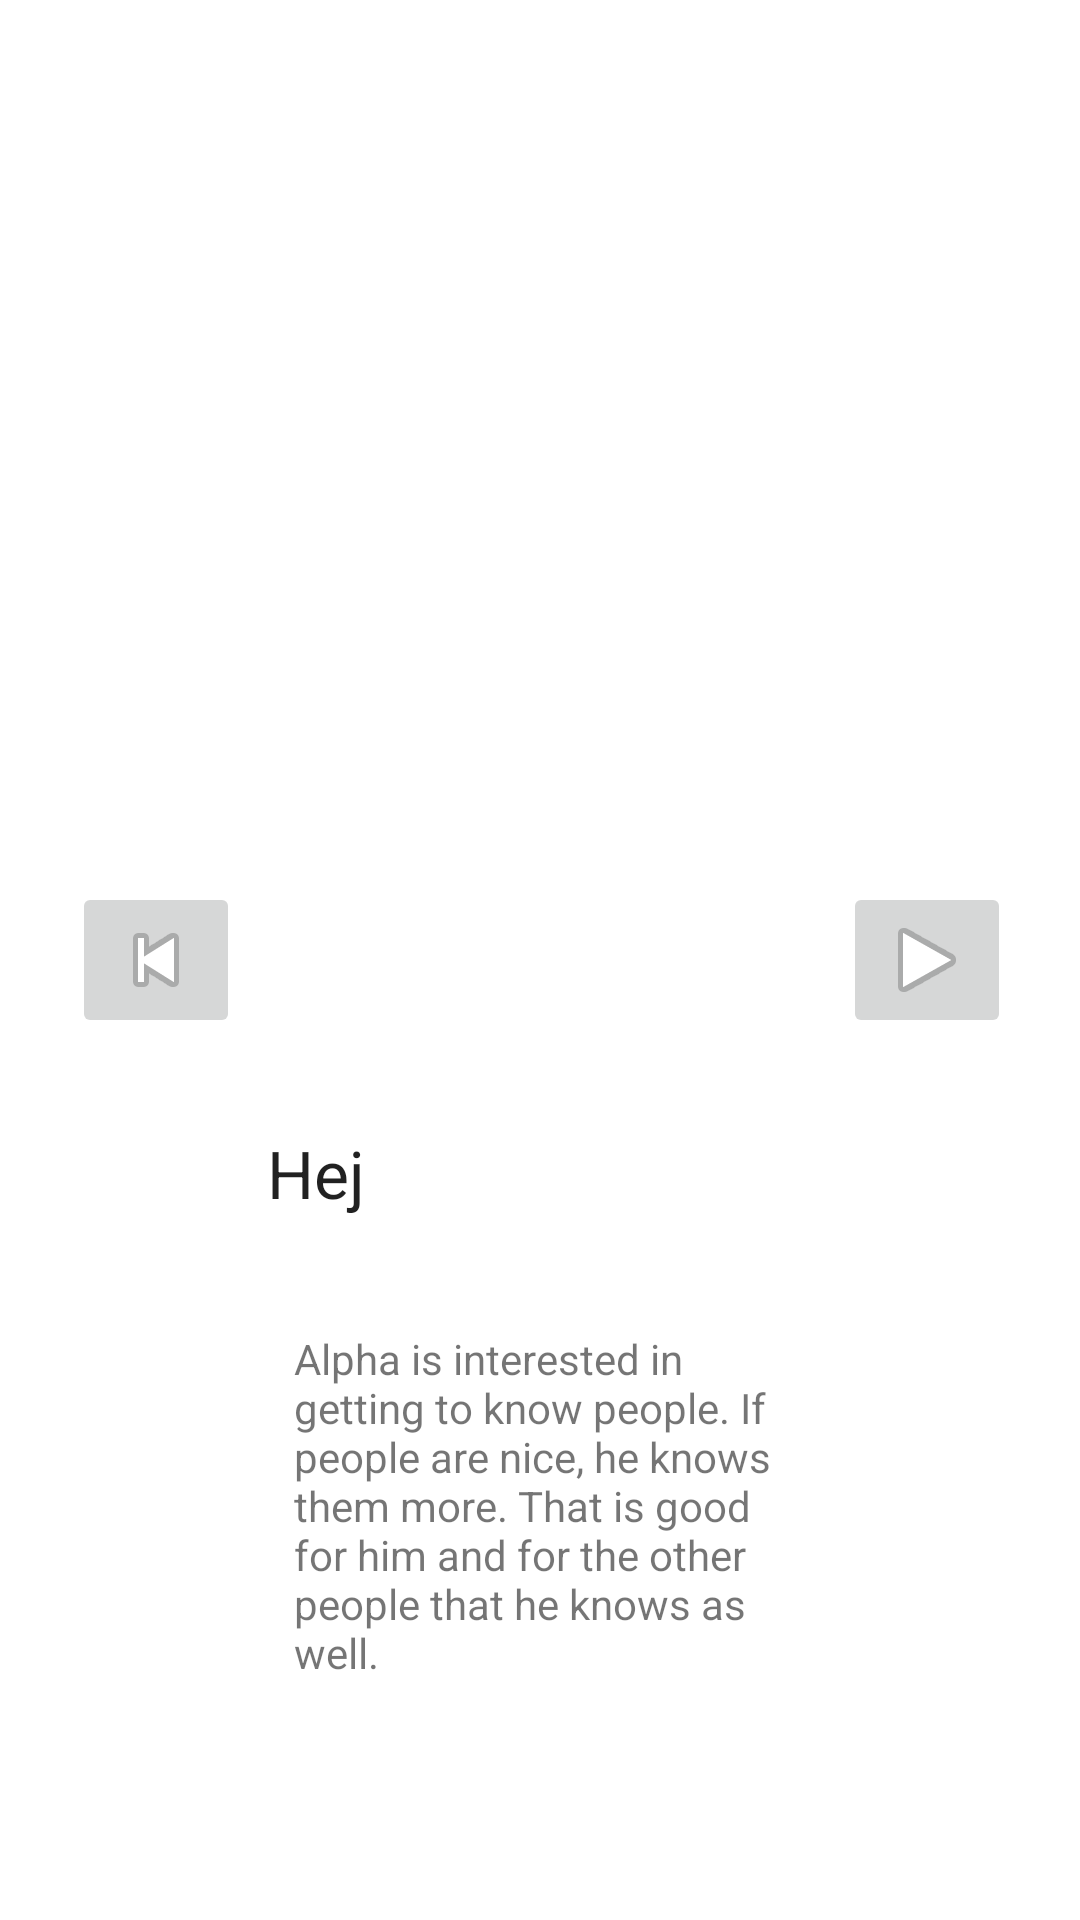

Screen size 1080px×1920px. Icon name, then its box in pixels as (x1, y1, x2, y2):
play: (855, 900, 999, 1020)
previous: (84, 900, 228, 1020)
